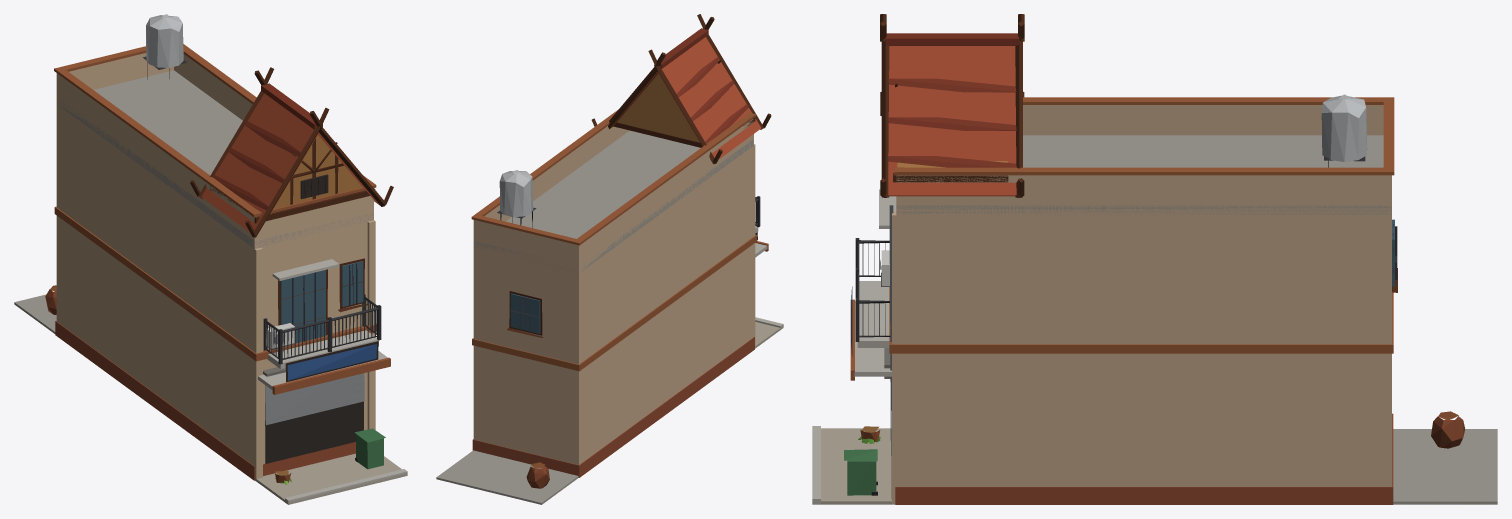
File: bay1_mid.glb
3 renders of one model, left to right at view 1: azimuth 30°, elevation 25°; view 2: azimuth 150°, elevation 25°; view 3: azimuth 270°, elevation 25°, orthographic. The views are drawn at different scales.
Parts seen in each view (by area): view 1: body, windows; view 2: body, windows; view 3: body.
Boxes of the visible parts, x1,y1,x2,y2 form: body: (14, 14, 407, 504); windows: (265, 174, 363, 463); body: (436, 14, 783, 504); windows: (510, 293, 540, 333); body: (812, 14, 1497, 504).
Bounding box in the file's own units: 4.98 × 11.83 × 15.9.
